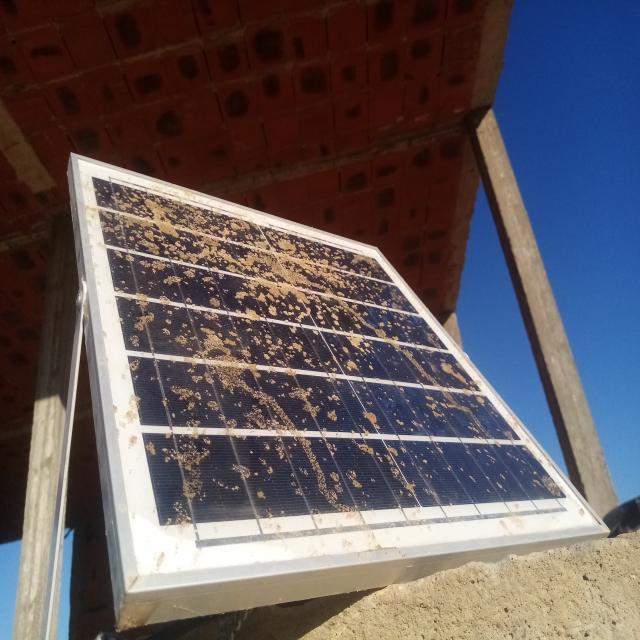faulty: (75, 156, 604, 588)
